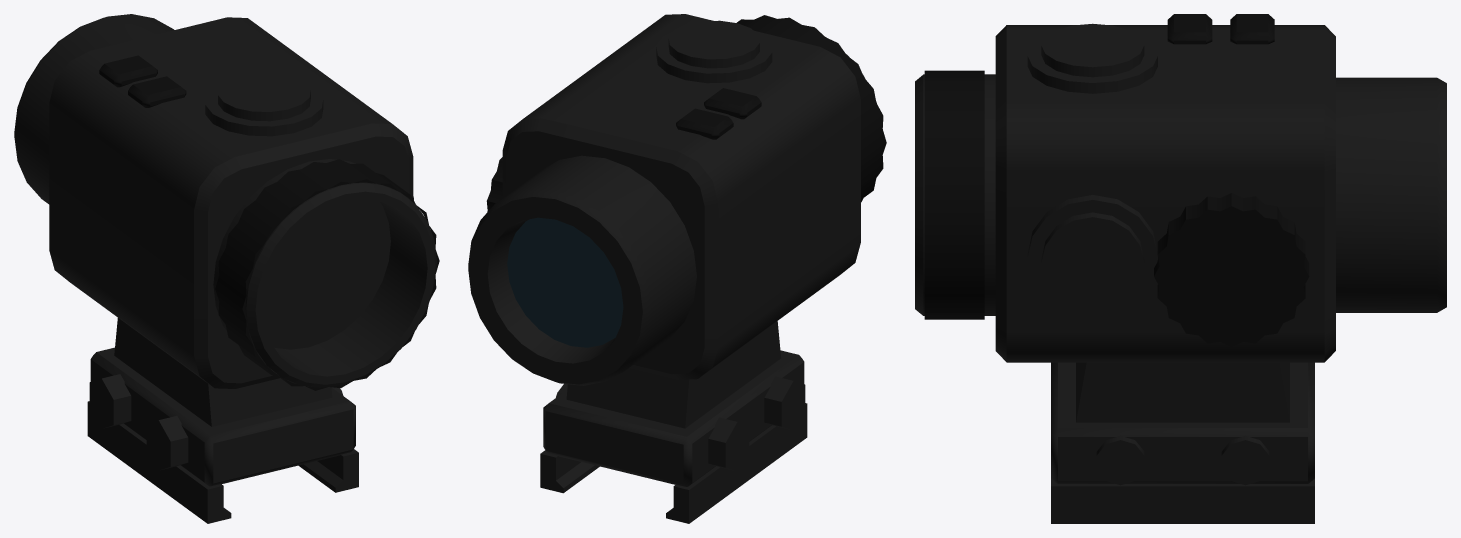
File: prism.glb
The picture shows the model from 3 angles, left to right: view 1: azimuth 30°, elevation 25°; view 2: azimuth 150°, elevation 25°; view 3: azimuth 270°, elevation 25°; orthographic projection. The views are drawn at different scales.
Visible parts, largest first — view 1: body; view 2: body; view 3: body.
Boxes of the visible parts, bbox=[...] form: body: bbox=[14, 14, 439, 523]; body: bbox=[468, 14, 886, 523]; body: bbox=[915, 14, 1446, 523].
Bounding box in the file's own units: 0.0445 × 0.0696 × 0.0766.
